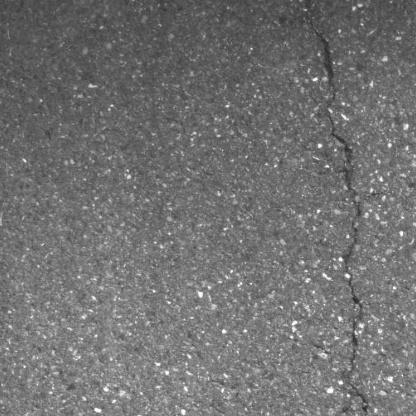Cracks: (282, 0, 374, 416)
